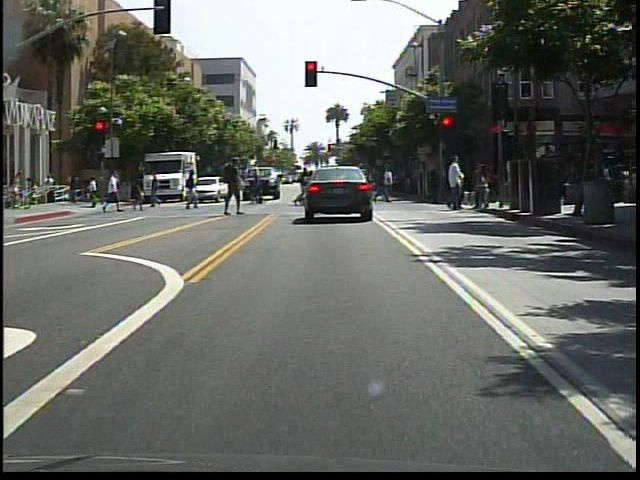person: (439, 154, 472, 213), (220, 155, 248, 223), (350, 165, 373, 218), (102, 170, 125, 215), (182, 168, 204, 213), (147, 170, 165, 211), (132, 171, 147, 216), (251, 169, 267, 207)
